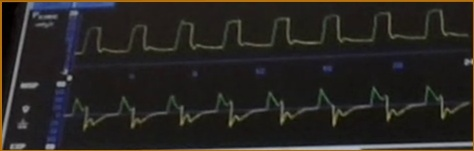Premature_cycling Flow: (66, 83, 469, 142)
